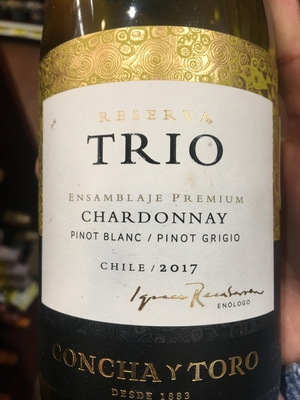trio chardonnay: (40, 2, 286, 400)
